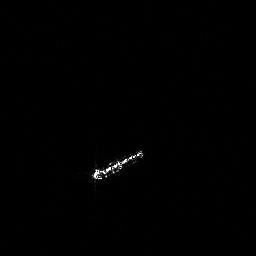ship: (91, 147, 145, 182)
